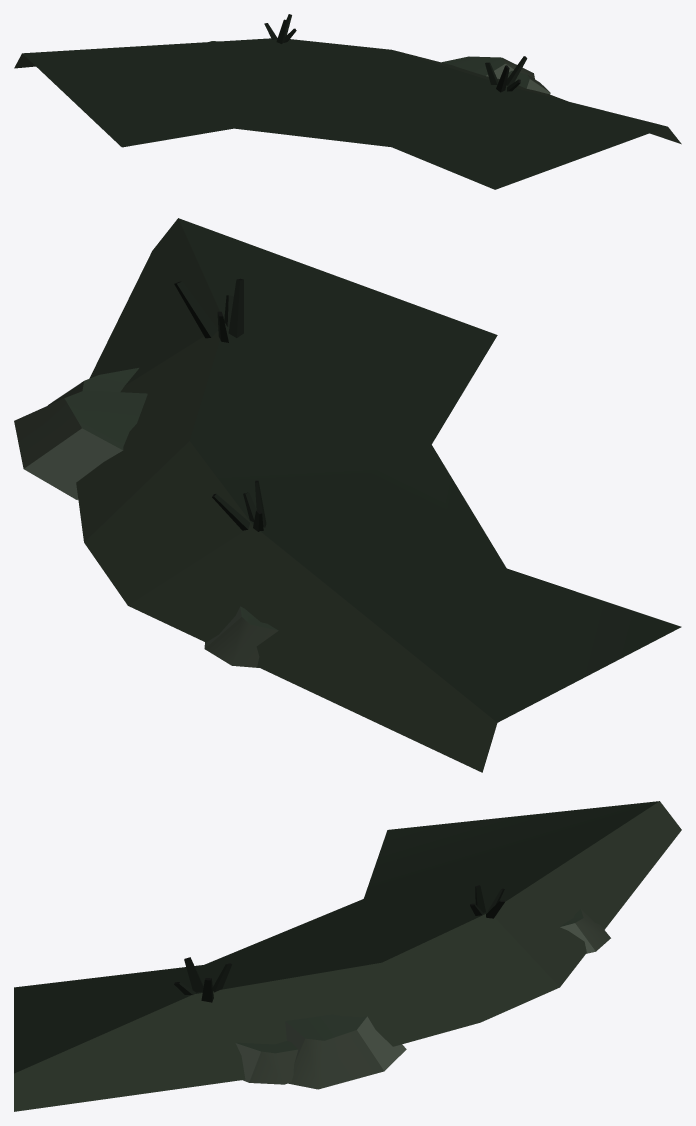
File: SF_Env_GrassEdge_Corner_02.glb
3 views of the same model, one above another, from view 1: azimuth 30°, elevation 25°; view 2: azimuth 150°, elevation 25°; view 3: azimuth 270°, elevation 25° (orthographic). The views are drawn at different scales.
Visible parts, largest first — view 1: SF_Env_GrassEdge_Corner_02; view 2: SF_Env_GrassEdge_Corner_02; view 3: SF_Env_GrassEdge_Corner_02.
Part boxes in pixels (x1,y1,x2,y2): SF_Env_GrassEdge_Corner_02: [14, 14, 681, 189]; SF_Env_GrassEdge_Corner_02: [14, 218, 681, 772]; SF_Env_GrassEdge_Corner_02: [14, 801, 681, 1111].
Bounding box in the file's own units: 0.1787 × 0.0254 × 0.1789.
Materials: 1 (1 with a texture image).
